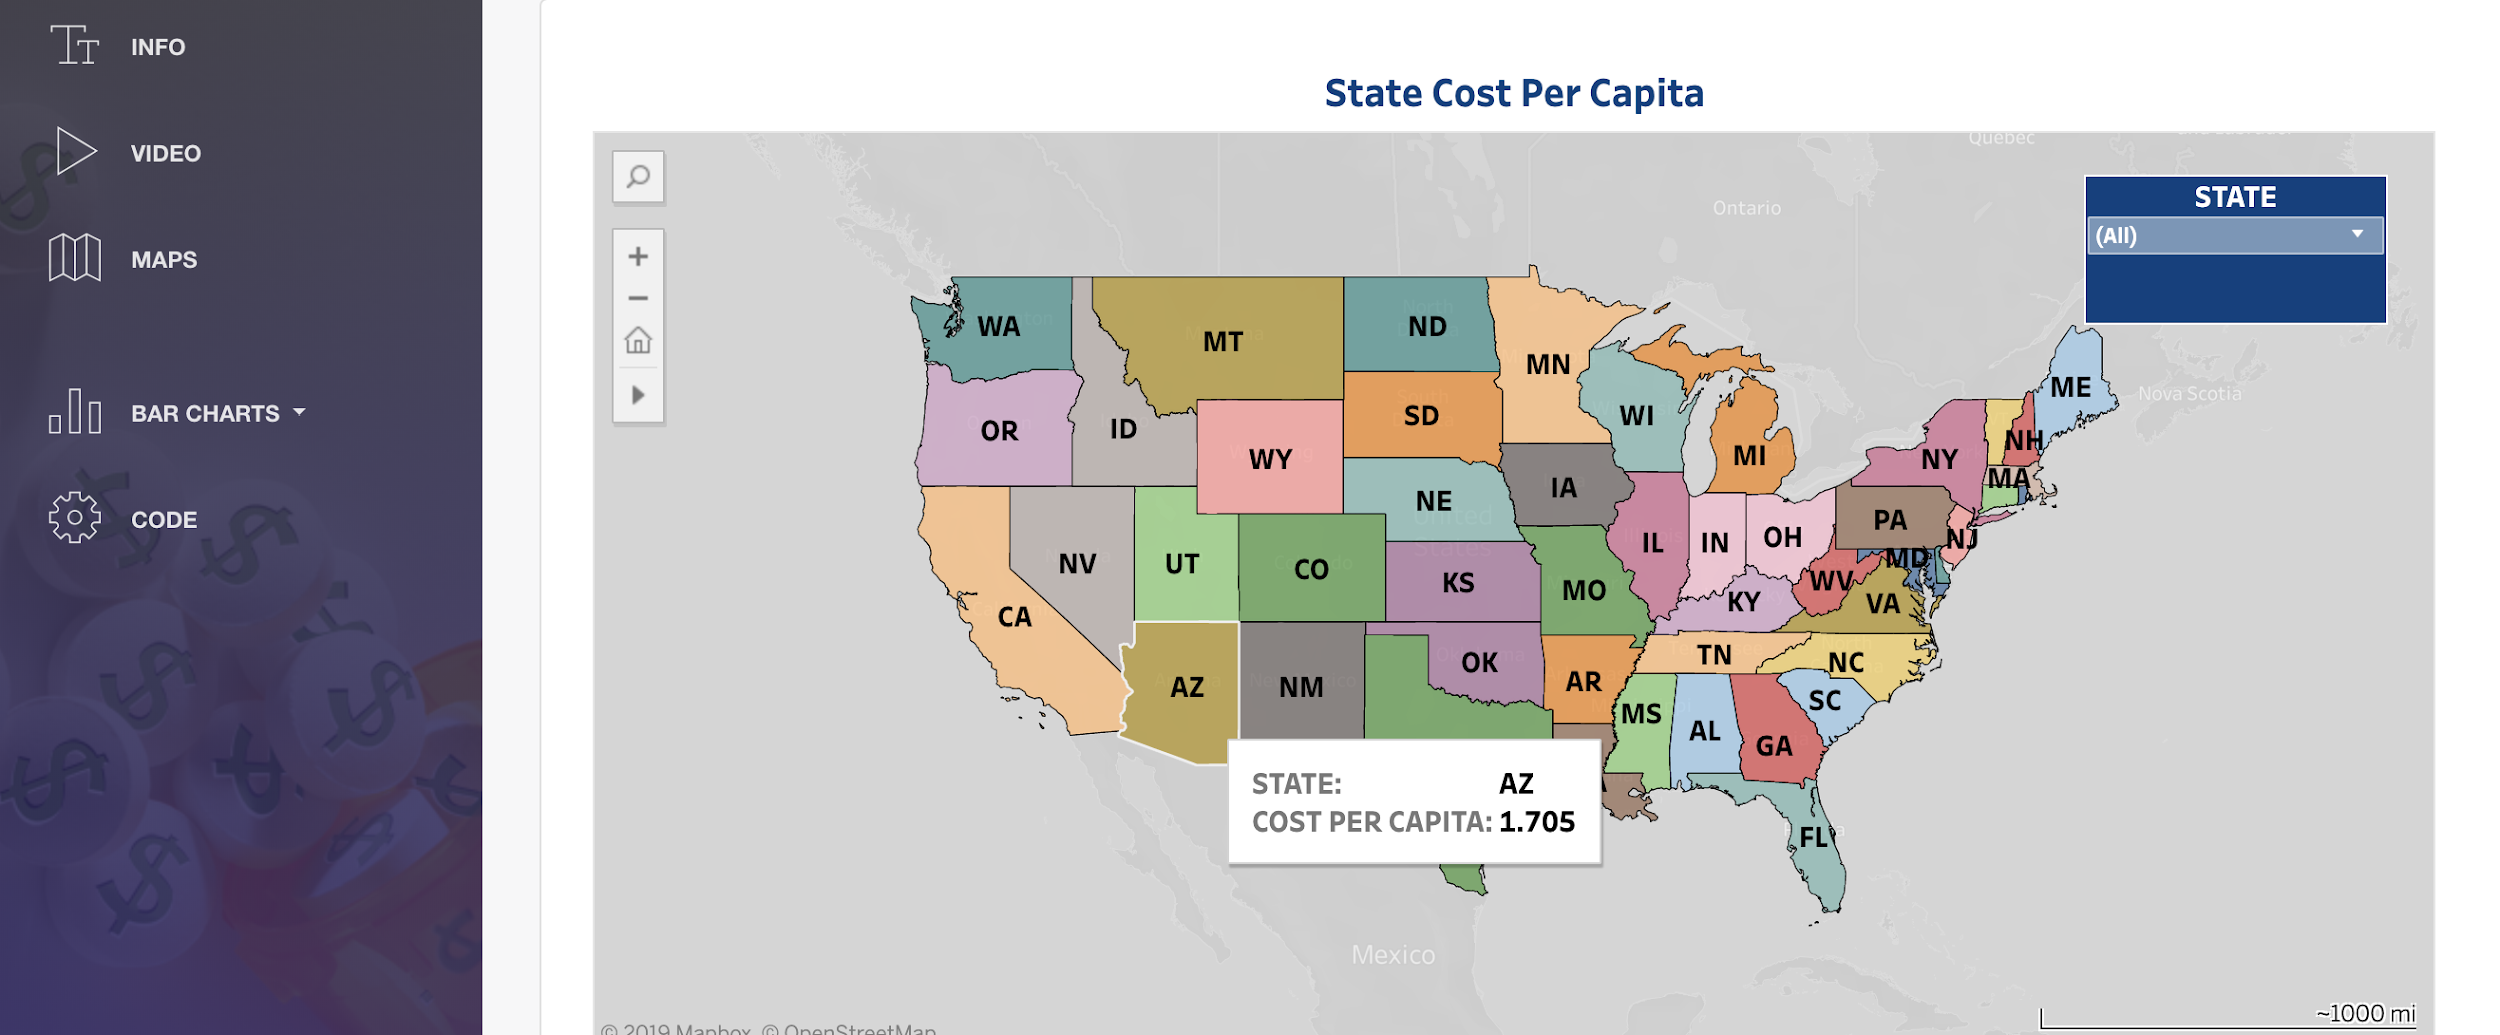

The page's visual inventory and layout, read from the dashboard file:
{"tool":"tableau","page":{"name":"Dashboard 1","canvas":[1000,1000],"units":"permille","ordinal":0},"visuals":[{"type":"worksheet","title":"Sheet 1","mark":"Automatic","rows":["total_drug_cost"],"cols":["Region","Nppes_Provider_State"],"box":[4.8,9.3,893.8,981.4]},{"type":"legend","title":"Sheet 1","param":"[federated.18ietnm1om8f7d1h1xepw1aqygfa].[none:Nppes_Provider_State:nk]","box":[898.6,9.3,96.6,981.4]}]}

Visuals, with their boxes on the dashboard's canvas, which has no fixed pixel size, in thousandths of its width and height (x1, y1, x2, y2). These are canvas units, not pixel positions in the 2500x1035 screenshot, which may show the page scaled, cropped or inside an application window:
"Sheet 1" worksheet: <box>5,9,899,991</box>
"Sheet 1" legend: <box>899,9,995,991</box>
